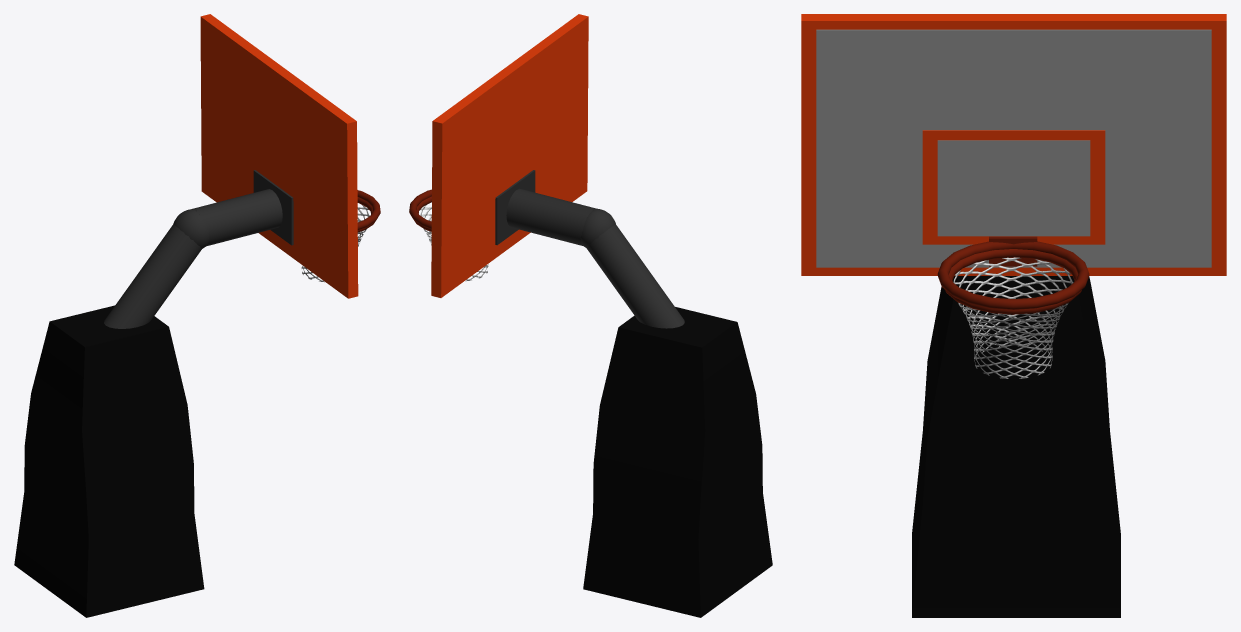
Rendered from basketball rim.fbx.
3 renders of one model, left to right at view 1: azimuth 30°, elevation 25°; view 2: azimuth 150°, elevation 25°; view 3: azimuth 270°, elevation 25°, orthographic. The views are drawn at different scales.
Parts seen in each view (by area): view 1: pCube6, pCube1, pCylinder3, pCylinder2, pCube7, pSphere1; view 2: pCube6, pCube1, pCylinder3, pCylinder2, pCube7, pSphere1; view 3: pCube2, pCube6, pCube1, pCube4, pCube3, pCylinder1, pTorus1, pTorus2, pCube5.
Part boxes in pixels (bbox=[...]): pCube6: bbox=[14, 305, 204, 617]; pCube1: bbox=[200, 14, 358, 298]; pCylinder3: bbox=[104, 224, 201, 328]; pCylinder2: bbox=[191, 189, 282, 245]; pCube7: bbox=[253, 170, 293, 245]; pSphere1: bbox=[173, 209, 209, 248]; pCube6: bbox=[583, 307, 772, 617]; pCube1: bbox=[431, 14, 588, 297]; pCylinder3: bbox=[586, 224, 684, 328]; pCylinder2: bbox=[506, 188, 596, 245]; pCube7: bbox=[495, 170, 535, 245]; pSphere1: bbox=[580, 208, 615, 247]; pCube2: bbox=[816, 29, 1211, 267]; pCube6: bbox=[912, 276, 1120, 617]; pCube1: bbox=[801, 14, 1226, 275]; pCube4: bbox=[937, 140, 1090, 236]; pCube3: bbox=[922, 130, 1105, 244]; pCylinder1: bbox=[953, 257, 1073, 378]; pTorus1: bbox=[937, 241, 1089, 309]; pTorus2: bbox=[945, 249, 1081, 314]; pCube5: bbox=[989, 236, 1037, 266].
Bounding box in the file's own units: 8.9 × 12.33 × 7.
